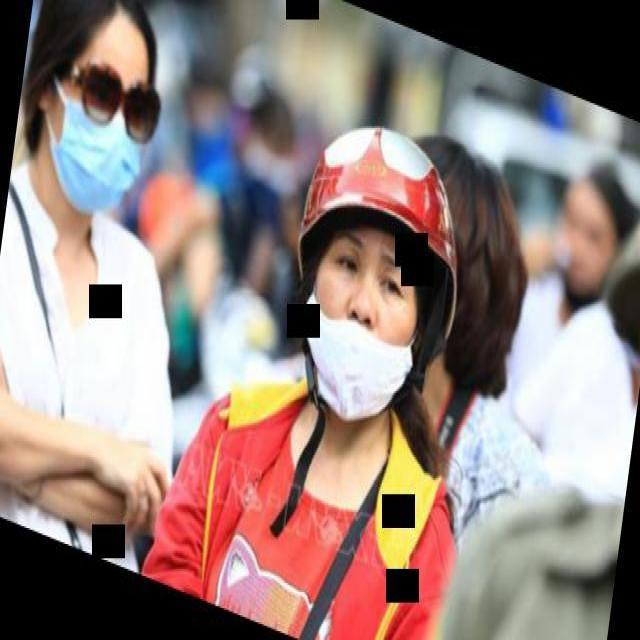hairnet: (302, 291, 417, 420)
